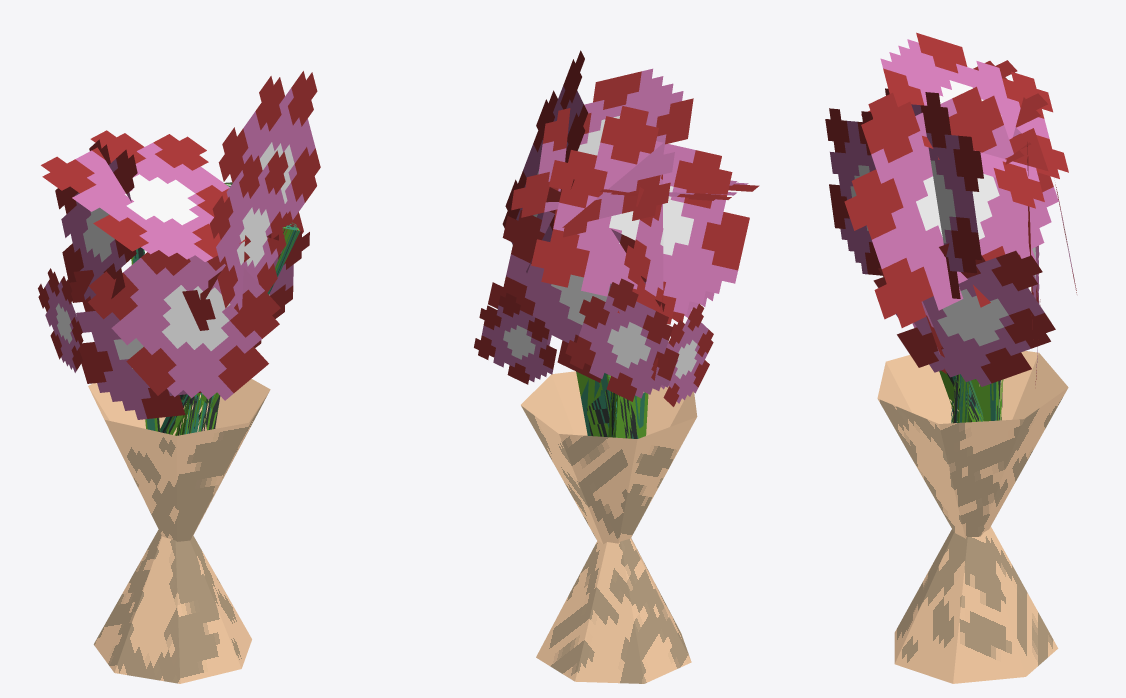
The model's file is bouqet.glb.
3 renders of one model, left to right at view 1: azimuth 30°, elevation 25°; view 2: azimuth 150°, elevation 25°; view 3: azimuth 270°, elevation 25°, orthographic. The views are drawn at different scales.
Visible parts, largest first — view 1: Cone, Plane.004, Plane.007, Plane.009, Plane.006, Plane.015, Plane.005, Plane.003, Cube.002, Plane.014; view 2: Cone, Plane.001, Plane.008, Plane.002, Plane.012, Plane.010, Plane, Cube.002, Plane.003, Plane.005, Plane.007; view 3: Cone, Plane, Plane.013, Plane.008, Plane.006, Plane.009, Cube.002, Plane.007.
Part boxes in pixels (x1=…): Cone: x1=88, y1=379, x2=270, y2=683; Plane.004: x1=88, y1=235, x2=280, y2=400; Plane.007: x1=41, y1=130, x2=245, y2=261; Plane.009: x1=210, y1=150, x2=290, y2=310; Plane.006: x1=218, y1=71, x2=320, y2=233; Plane.015: x1=69, y1=270, x2=215, y2=419; Plane.005: x1=55, y1=139, x2=137, y2=299; Plane.003: x1=38, y1=268, x2=83, y2=372; Cube.002: x1=131, y1=182, x2=300, y2=435; Plane.014: x1=200, y1=231, x2=309, y2=347; Cone: x1=521, y1=371, x2=697, y2=683; Plane.001: x1=531, y1=106, x2=749, y2=324; Plane.008: x1=511, y1=68, x2=693, y2=237; Plane.002: x1=565, y1=278, x2=679, y2=401; Plane.012: x1=488, y1=187, x2=665, y2=382; Plane.010: x1=474, y1=293, x2=556, y2=384; Plane: x1=502, y1=50, x2=587, y2=272; Cube.002: x1=576, y1=371, x2=648, y2=438; Plane.003: x1=651, y1=303, x2=713, y2=406; Plane.005: x1=624, y1=174, x2=714, y2=322; Plane.007: x1=600, y1=180, x2=759, y2=200; Cone: x1=877, y1=351, x2=1068, y2=683; Plane: x1=844, y1=86, x2=1058, y2=327; Plane.013: x1=873, y1=243, x2=1055, y2=386; Plane.008: x1=880, y1=32, x2=1068, y2=208; Plane.006: x1=885, y1=88, x2=983, y2=298; Plane.009: x1=825, y1=108, x2=882, y2=275; Cube.002: x1=939, y1=370, x2=1003, y2=423; Plane.007: x1=861, y1=60, x2=1047, y2=164.
Bounding box in the file's own units: 1.25 × 2.16 × 0.9665.
Materials: 3 (3 with a texture image).
